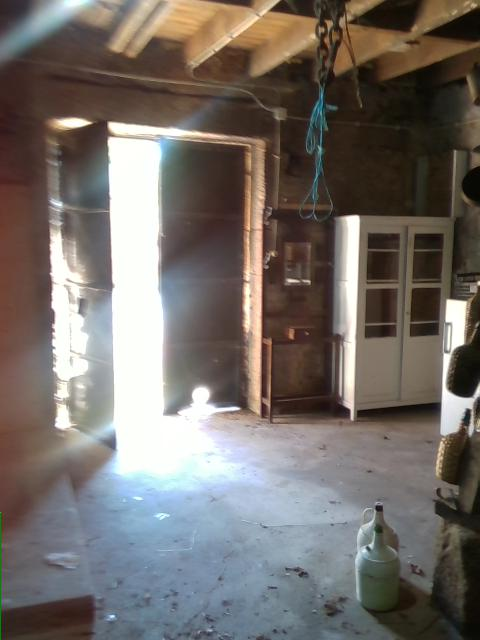semi_door: (43, 114, 266, 452)
